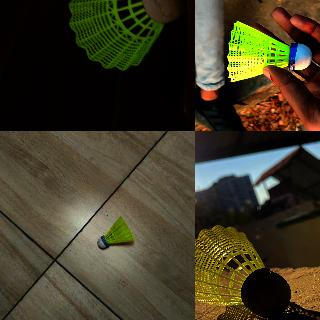shuttlecock: (195, 224, 290, 319), (68, 0, 187, 71), (226, 20, 312, 82), (98, 216, 132, 250)
